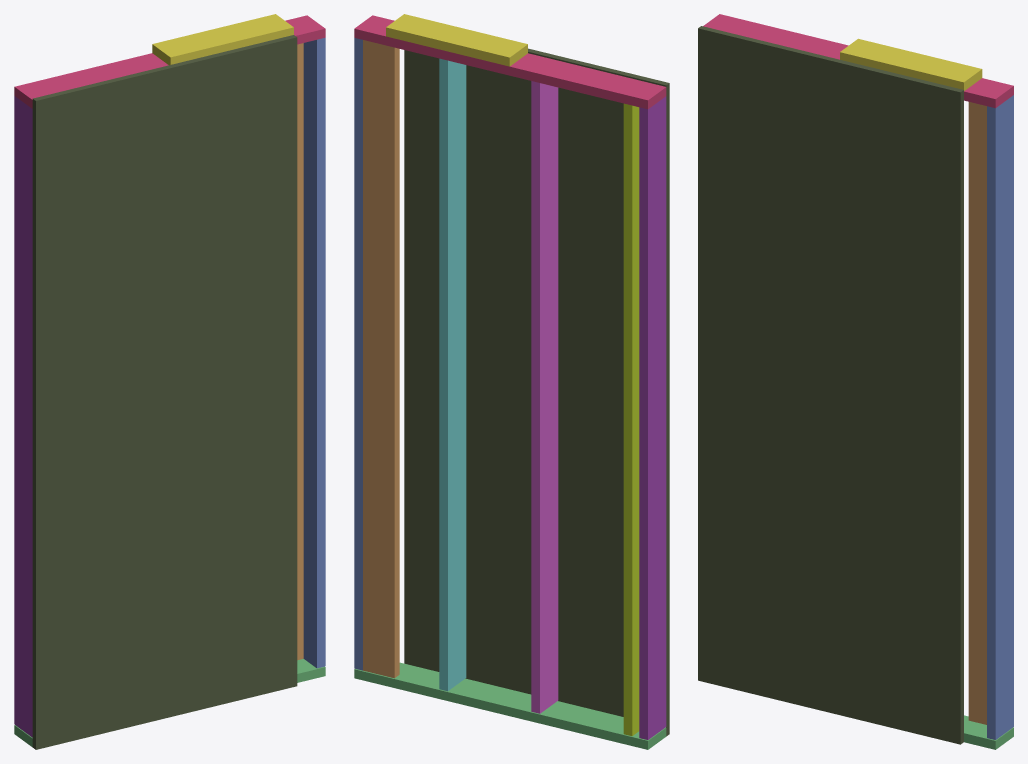
3 views of the same model, side by side, from view 1: azimuth 30°, elevation 25°; view 2: azimuth 150°, elevation 25°; view 3: azimuth 330°, elevation 25° (orthographic).
Parts seen in each view (by area): view 1: world; view 2: world; view 3: world.
Boxes of the visible parts, x1,y1,x2,y2 form: world: (14,14,325,749); world: (354,14,669,749); world: (698,14,1013,749).
Bounding box in the file's own units: 51 × 109 × 6.5.
